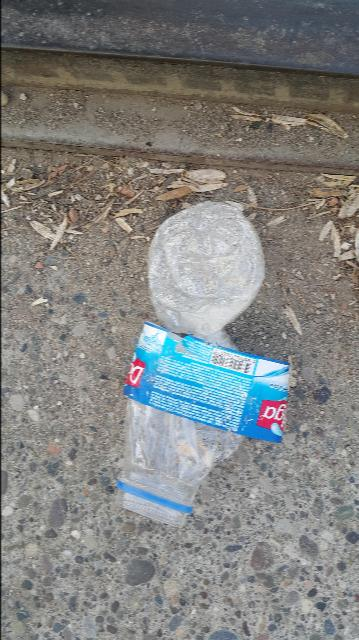plastic: (117, 399, 242, 526), (146, 202, 264, 336)
